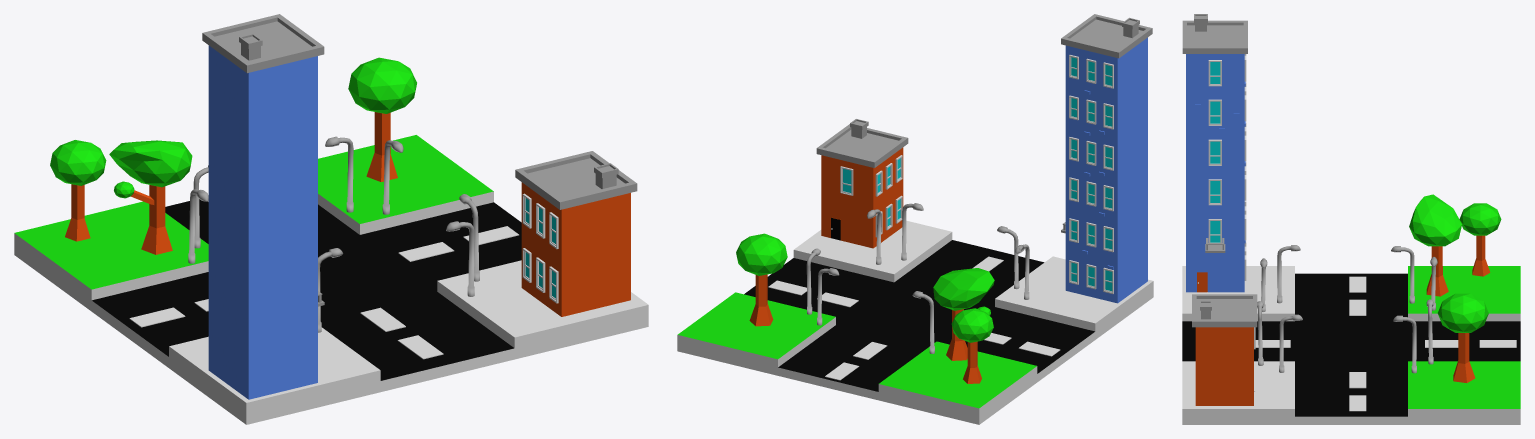
3 views of the same model, side by side, from view 1: azimuth 30°, elevation 25°; view 2: azimuth 150°, elevation 25°; view 3: azimuth 270°, elevation 25° (orthographic). The views are drawn at different scales.
Visible parts, largest first — view 1: Cube.004; view 2: Cube.004; view 3: Cube.004.
Part boxes in pixels (box(x1,y1,x2,y2)): Cube.004: box(14, 14, 648, 424); Cube.004: box(677, 14, 1153, 424); Cube.004: box(1182, 14, 1520, 424).
Bounding box in the file's own units: 200 × 177 × 200.
